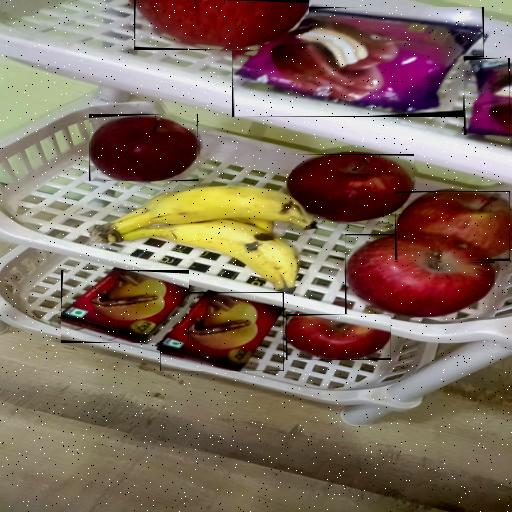Apple: (345, 234, 495, 318), (288, 154, 414, 224), (134, 0, 309, 50), (395, 192, 510, 262), (90, 114, 200, 181), (286, 314, 391, 360)
Choco Fills: (160, 292, 284, 371), (61, 270, 189, 343)
Choco Pie: (232, 7, 484, 117), (464, 58, 510, 135)
